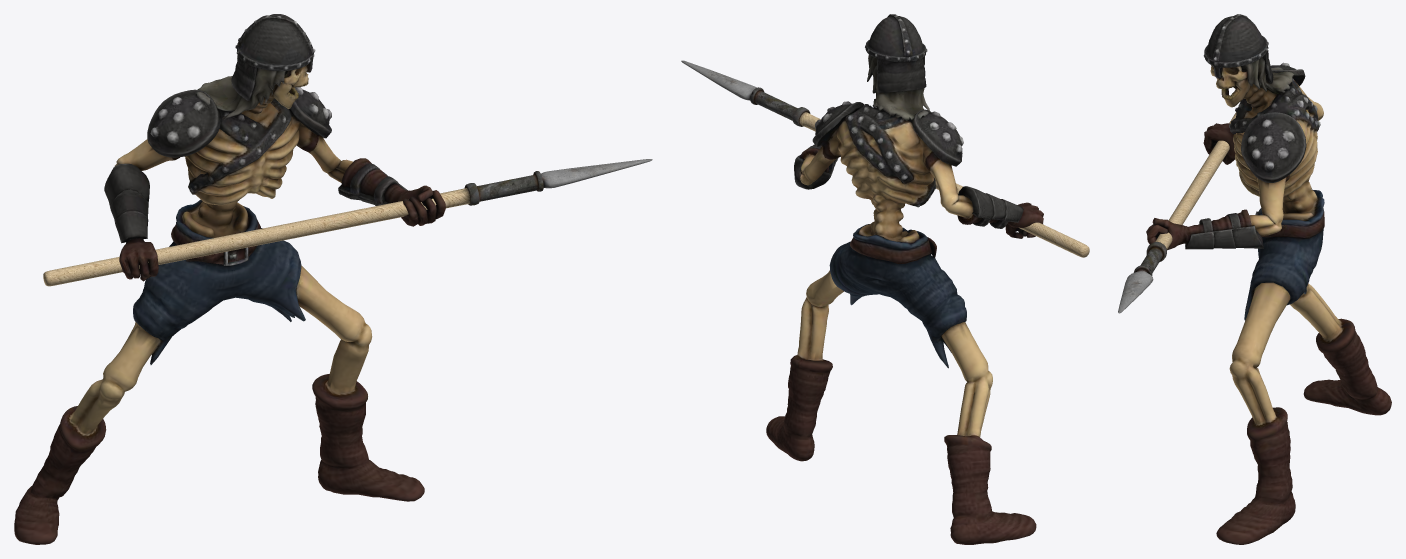
File: MZ4250 - Skeleton Spearman.glb
3 views of the same model, side by side, from view 1: azimuth 30°, elevation 25°; view 2: azimuth 150°, elevation 25°; view 3: azimuth 270°, elevation 25° (orthographic). The views are drawn at different scales.
Visible parts, largest first — view 1: Skeleton Spearman_no weap.001; view 2: Skeleton Spearman_no weap.001; view 3: Skeleton Spearman_no weap.001.
Boxes of the visible parts, box(x1,y1,x2,y2) form: Skeleton Spearman_no weap.001: box(14, 14, 652, 544); Skeleton Spearman_no weap.001: box(681, 14, 1089, 544); Skeleton Spearman_no weap.001: box(1118, 14, 1391, 544).
Size of the model in its own units: 35.86 by 32.65 by 17.38.
Materials: 2 (2 with a texture image).
